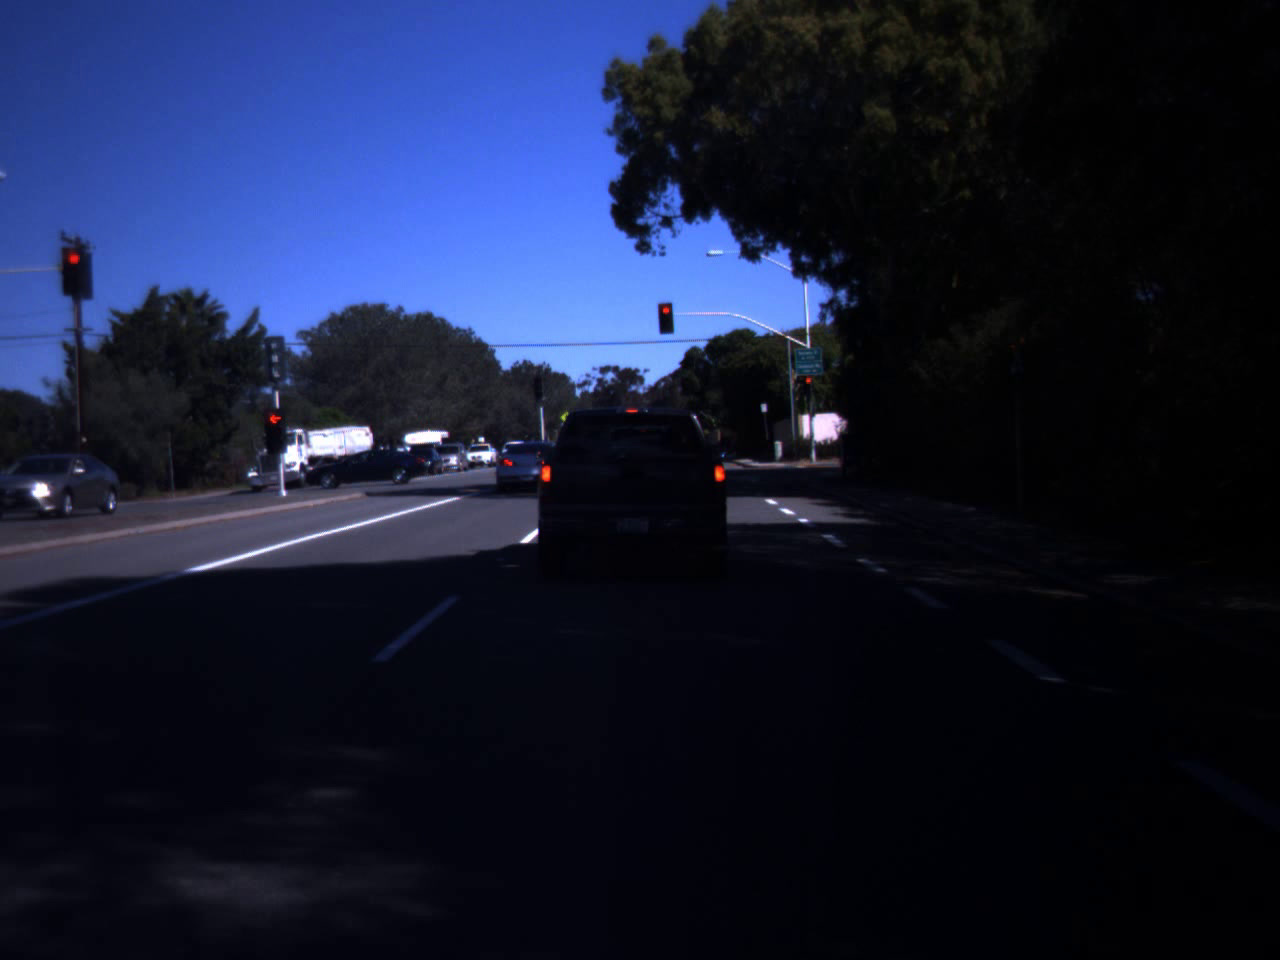stop: (262, 412, 289, 443), (62, 253, 86, 280), (657, 305, 675, 327), (802, 376, 814, 394)
